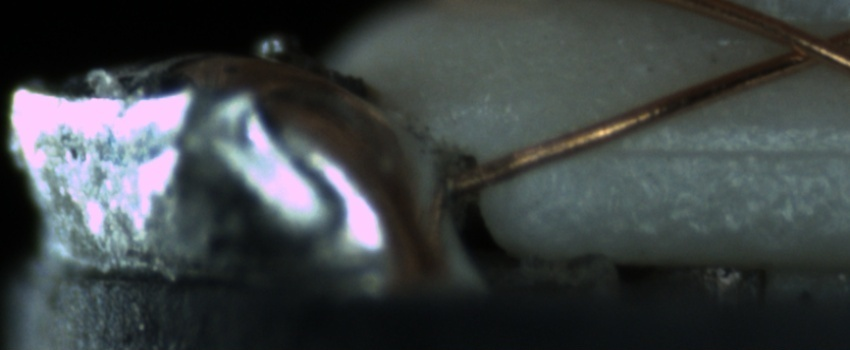CL: (763, 15, 847, 75)
DL: (571, 118, 843, 183)
